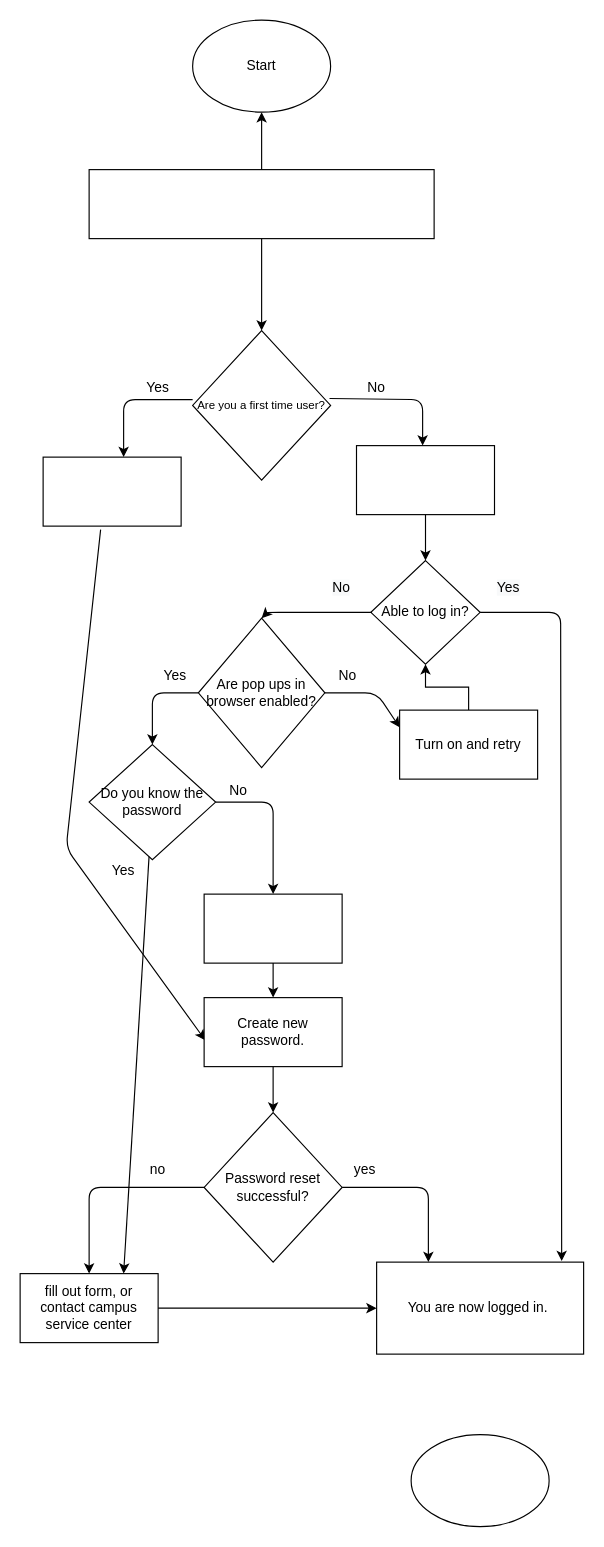
Some shapes in this 604 by 1547 pixel diagram are drawn without their labels. The shapes that lost their labels are listed below. From the top down, each one's box as (x1, y1, x2, y2) in pixels, then its label:
(88, 168, 434, 239): go to https://student.mail.wvncc.edu/new_layout/index.php
(42, 456, 181, 526): Enter in your User Id = student id Password= student id number
(355, 444, 494, 515): log in with student id and password.
(203, 893, 342, 963): Request a password reset.
(410, 1433, 549, 1527): End
